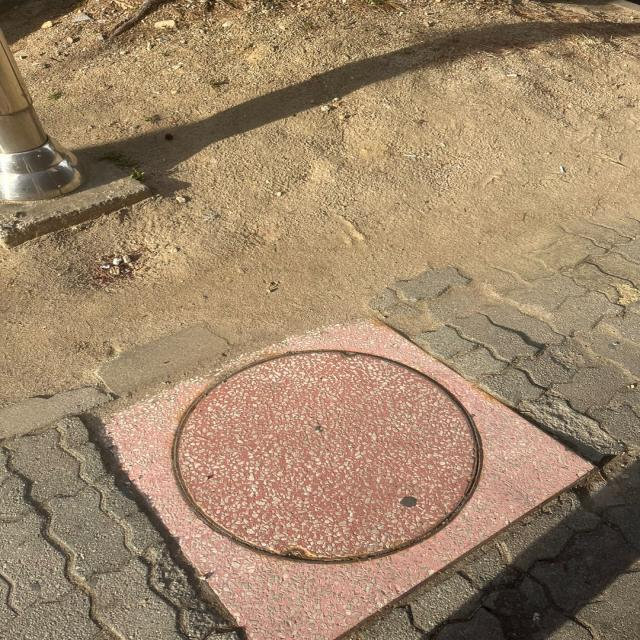manhole: (174, 350, 481, 561)
